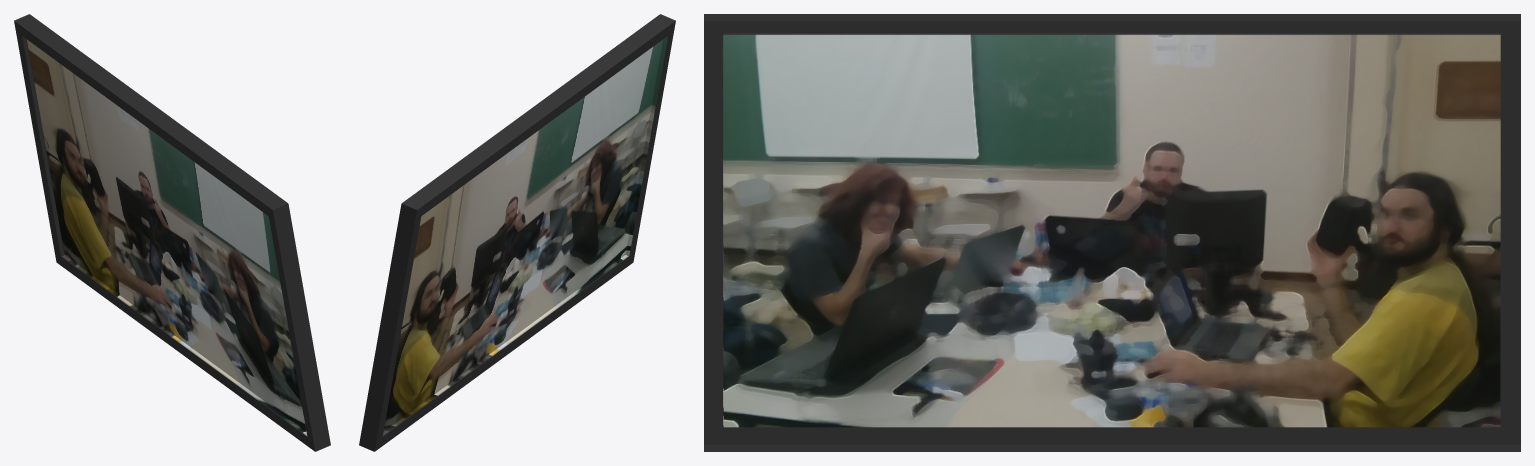
The picture shows the model from 3 angles, left to right: view 1: azimuth 30°, elevation 25°; view 2: azimuth 150°, elevation 25°; view 3: azimuth 270°, elevation 25°; orthographic projection. The views are drawn at different scales.
Parts seen in each view (by area): view 1: TV; view 2: TV; view 3: TV.
Part boxes in pixels (x1,y1,x2,y2): TV: (14,14,330,451); TV: (359,14,675,451); TV: (704,14,1520,451).
Size of the model in its own units: 16.23 by 68.11 by 125.
